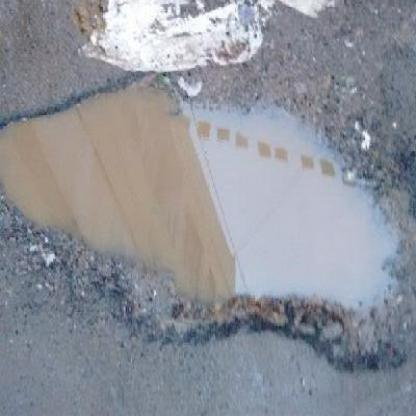pothole: (1, 69, 412, 380)
